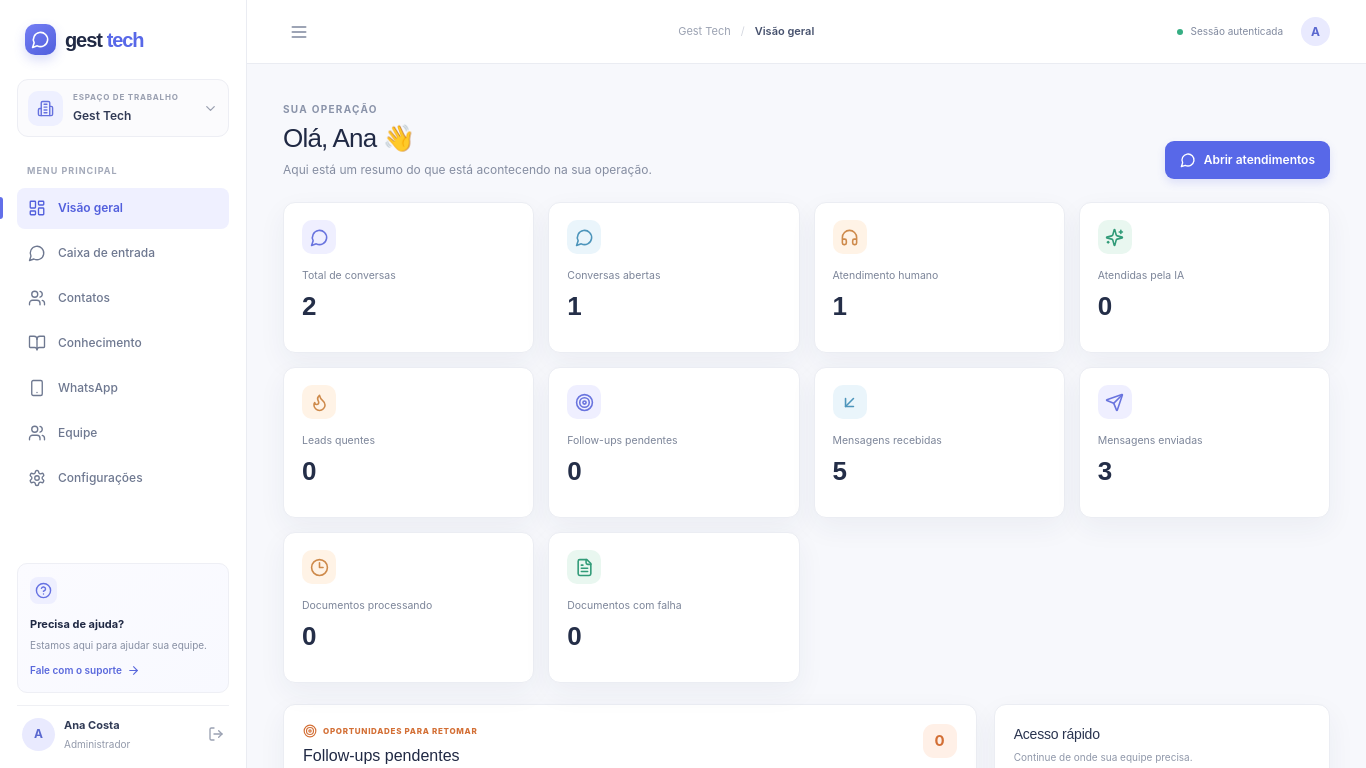
Gest Tech protected app › logs out through the session endpoint
expect the text "Conversas abertas" is shown: met, box [567, 269, 660, 282]
Step 1. Click the button "A Ana Costa Administrador" → (123, 729), box [17, 704, 229, 754]
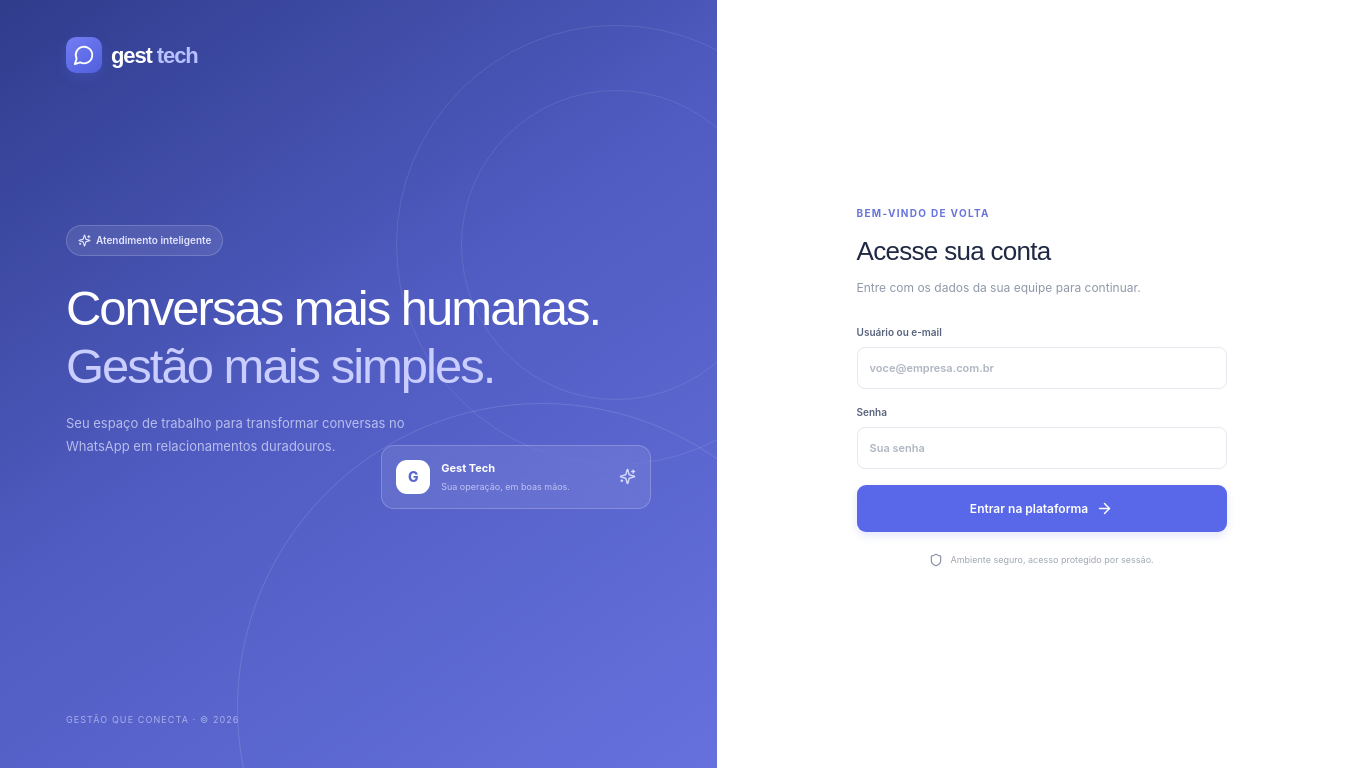
expect the heading "Acesse sua conta" is shown: met, box [857, 236, 1051, 266]
